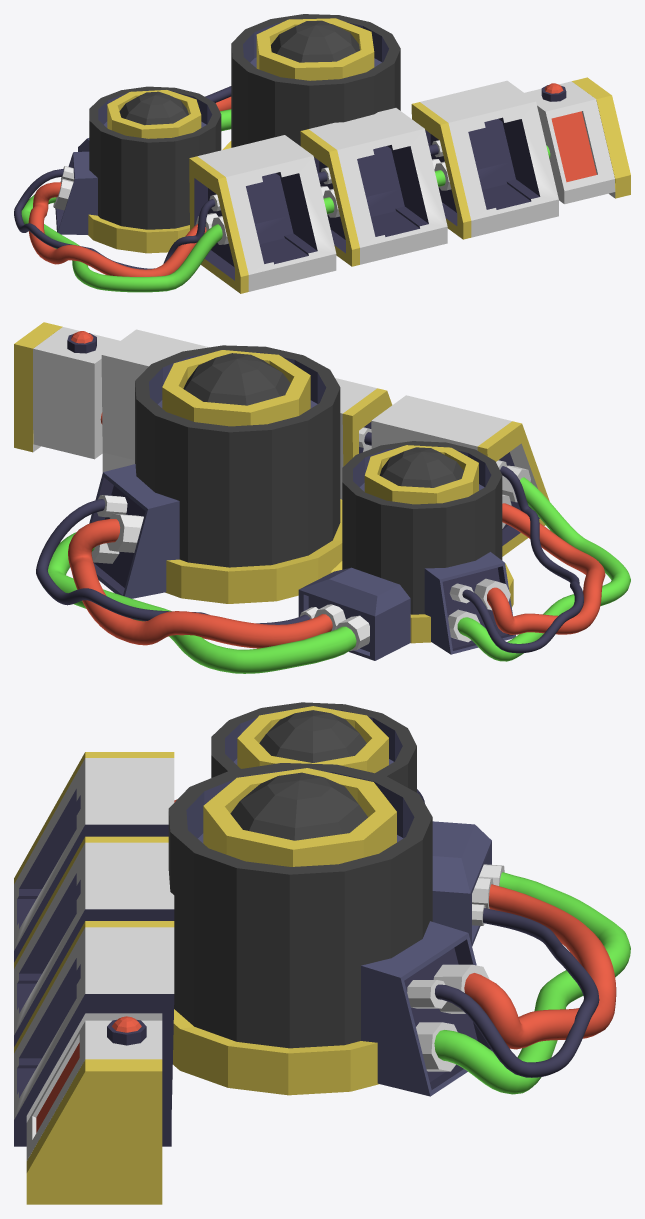
File: Bat_Array.glb
3 renders of one model, top to bottom at view 1: azimuth 30°, elevation 25°; view 2: azimuth 150°, elevation 25°; view 3: azimuth 270°, elevation 25°, orthographic. The views are drawn at different scales.
Parts seen in each view (by area): view 1: Cube.002, Cube.003, Cube.001, BézierCurve.001, BézierCurve, BézierCurve.002; view 2: Cube.003, Cube.002, Cube.001, BézierCurve.004, Cube, BézierCurve.003, BézierCurve.001, BézierCurve, BézierCurve.002, BézierCurve.005; view 3: Cube.003, Cube.002, Cube.001, BézierCurve.004, BézierCurve.003, Cube, BézierCurve.005.
Part boxes in pixels (bbox=[...]): Cube.002: bbox=[189, 80, 558, 293]; Cube.003: bbox=[53, 14, 400, 253]; Cube.001: bbox=[524, 77, 630, 204]; BézierCurve.001: bbox=[28, 182, 206, 276]; BézierCurve: bbox=[21, 195, 222, 292]; BézierCurve.002: bbox=[14, 169, 215, 269]; Cube.003: bbox=[89, 345, 515, 654]; Cube.002: bbox=[100, 329, 549, 556]; Cube.001: bbox=[14, 322, 119, 459]; BézierCurve.004: bbox=[68, 519, 332, 648]; Cube: bbox=[298, 567, 410, 660]; BézierCurve.003: bbox=[43, 532, 356, 673]; BézierCurve.001: bbox=[487, 503, 605, 634]; BézierCurve: bbox=[457, 477, 630, 661]; BézierCurve.002: bbox=[462, 466, 583, 653]; BézierCurve.005: bbox=[36, 499, 309, 624]; Cube.003: bbox=[168, 702, 492, 1096]; Cube.002: bbox=[14, 752, 174, 1146]; Cube.001: bbox=[26, 1016, 162, 1204]; BézierCurve.004: bbox=[464, 884, 616, 1049]; BézierCurve.003: bbox=[434, 872, 630, 1094]; Cube: bbox=[432, 821, 504, 946]; BézierCurve.005: bbox=[435, 908, 599, 1077].
Bounding box in the file's own units: 25.94 × 7.85 × 17.42.
